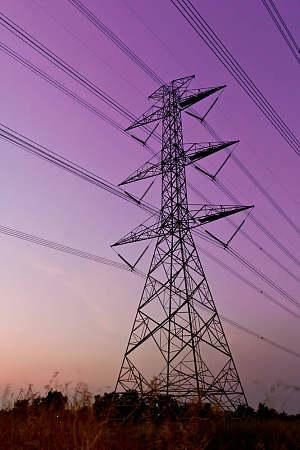power_tower: (117, 70, 251, 408)
